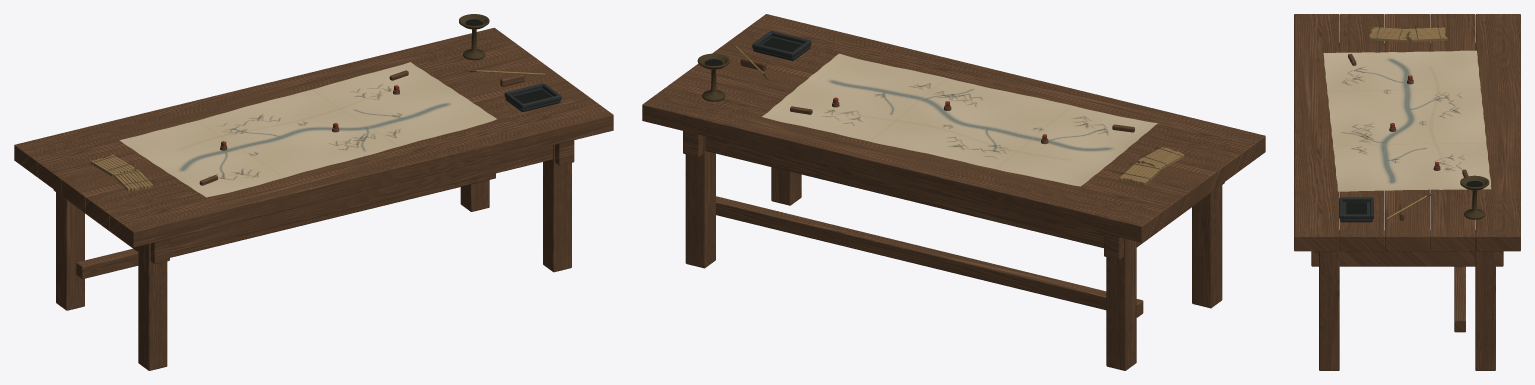
File: CommandDeskBaked.fbx
3 renders of one model, left to right at view 1: azimuth 30°, elevation 25°; view 2: azimuth 150°, elevation 25°; view 3: azimuth 270°, elevation 25°, orthographic. The views are drawn at different scales.
Visible parts, largest first — view 1: CommandDeskBaked; view 2: CommandDeskBaked; view 3: CommandDeskBaked.
Boxes of the visible parts, bbox=[...] form: CommandDeskBaked: bbox=[14, 14, 613, 370]; CommandDeskBaked: bbox=[642, 14, 1265, 370]; CommandDeskBaked: bbox=[1294, 14, 1520, 370].
Size of the model in its own units: 290 by 111 by 125.
1 material, 1 textured.
